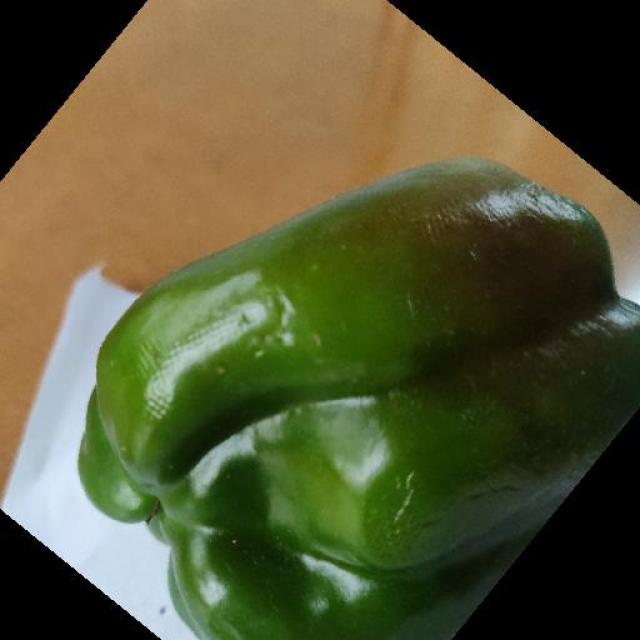Stale_Capsicum: (101, 144, 618, 640)
